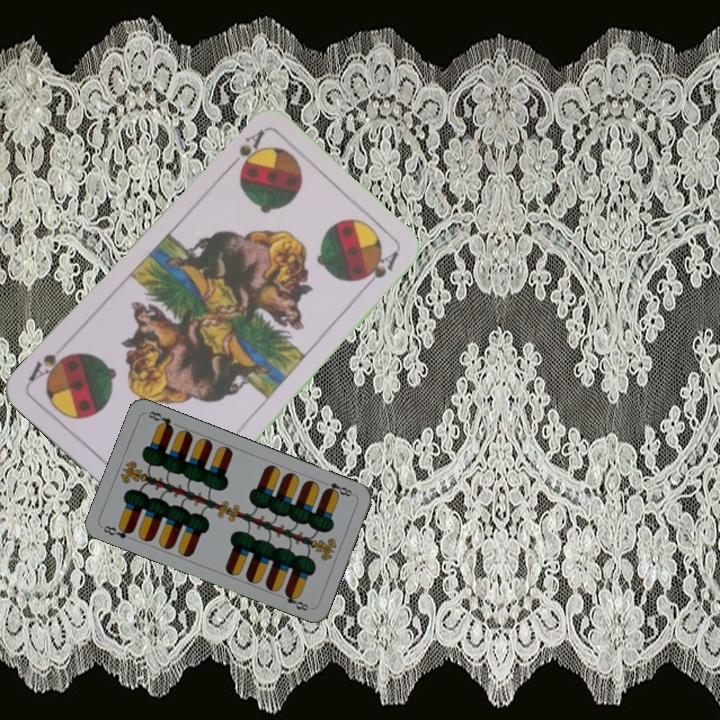E8: (318, 477, 357, 499), (99, 521, 136, 541)
SA: (222, 125, 267, 174)
